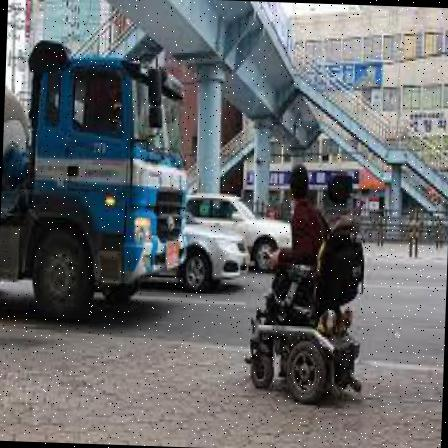wheel: (244, 164, 370, 410)
